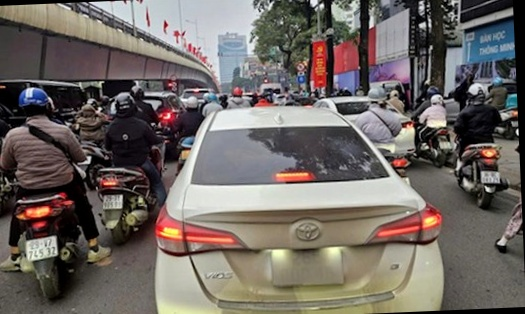Bien-so: (26, 235, 58, 261), (102, 194, 124, 209), (482, 170, 501, 183), (439, 140, 454, 149), (401, 175, 411, 187)
